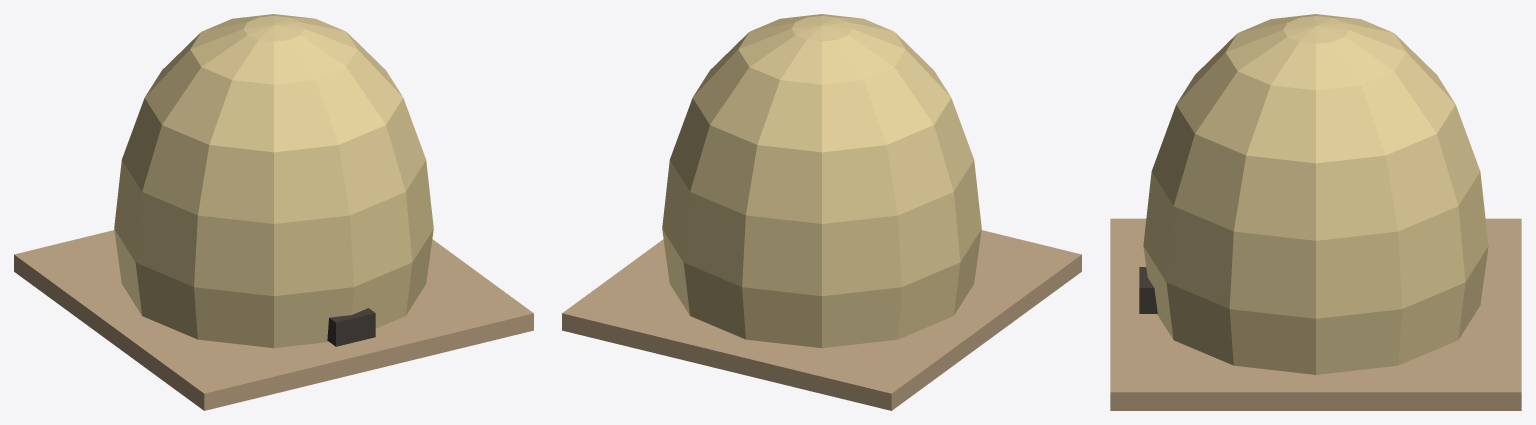
File: prop-hive-skep.fbx
3 views of the same model, side by side, from view 1: azimuth 30°, elevation 25°; view 2: azimuth 150°, elevation 25°; view 3: azimuth 270°, elevation 25° (orthographic). The views are drawn at different scales.
Parts seen in each view (by area): view 1: prop-hive-skep; view 2: prop-hive-skep; view 3: prop-hive-skep.
Part boxes in pixels (bbox=[...]): prop-hive-skep: bbox=[14, 14, 533, 410]; prop-hive-skep: bbox=[562, 14, 1081, 410]; prop-hive-skep: bbox=[1110, 14, 1521, 410].
Size of the model in its own units: 50 by 40 by 50.
